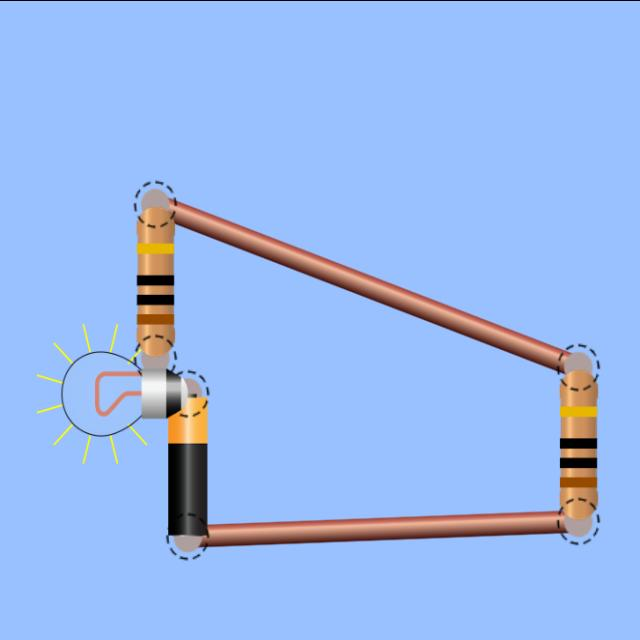Battery: (168, 397, 207, 534)
Light Bulb: (61, 350, 188, 435)
Resistor: (136, 206, 175, 356)
Wire: (169, 198, 571, 372), (200, 510, 567, 545), (560, 370, 598, 518)
